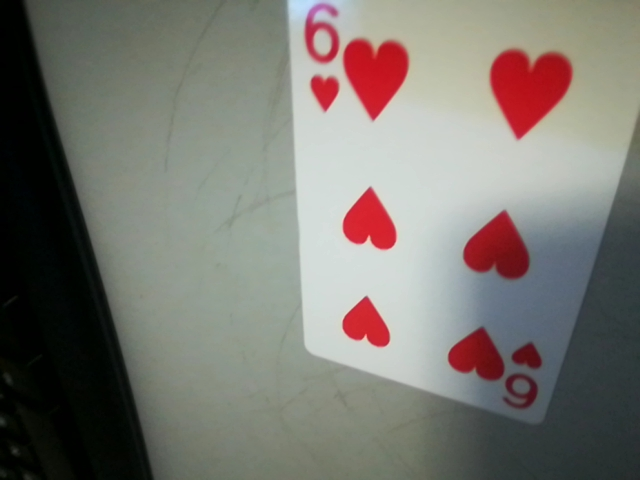hx 6: (294, 0, 352, 120)
